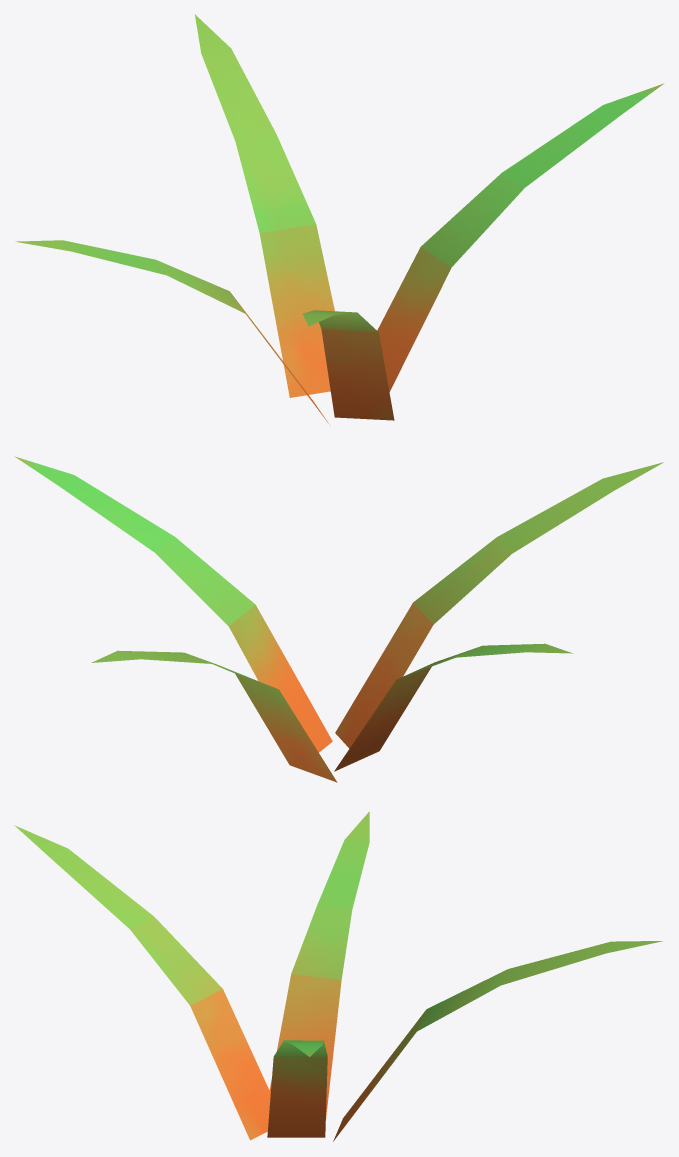
The model's file is Plant1.glb.
The picture shows the model from 3 angles, top to bottom: view 1: azimuth 30°, elevation 25°; view 2: azimuth 150°, elevation 25°; view 3: azimuth 270°, elevation 25°; orthographic projection. The views are drawn at different scales.
Parts seen in each view (by area): view 1: Plant1; view 2: Plant1; view 3: Plant1.
Boxes of the visible parts, box(x1,y1,x2,y2) form: Plant1: box(15, 14, 664, 423); Plant1: box(14, 456, 663, 782); Plant1: box(14, 811, 662, 1141).
Size of the model in its own units: 1.75 by 0.6586 by 1.76.
Materials: 1 (1 with a texture image).
